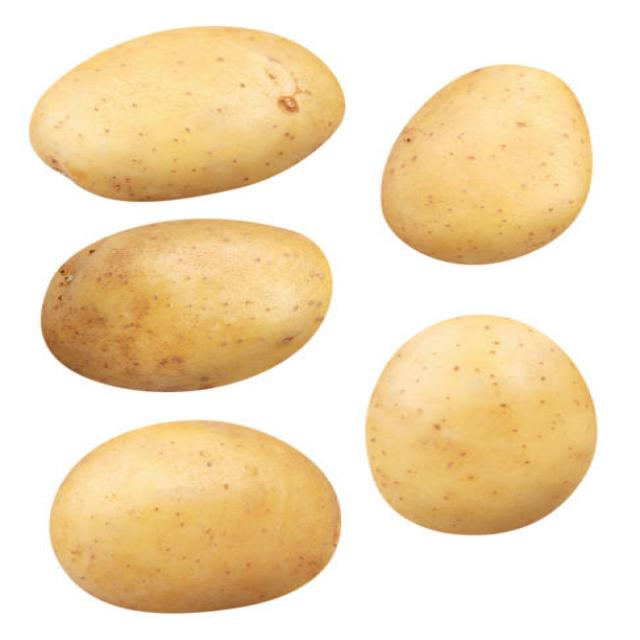Potato: (43, 414, 348, 616), (27, 17, 350, 203), (359, 306, 604, 538), (37, 212, 335, 395), (381, 59, 597, 265)
